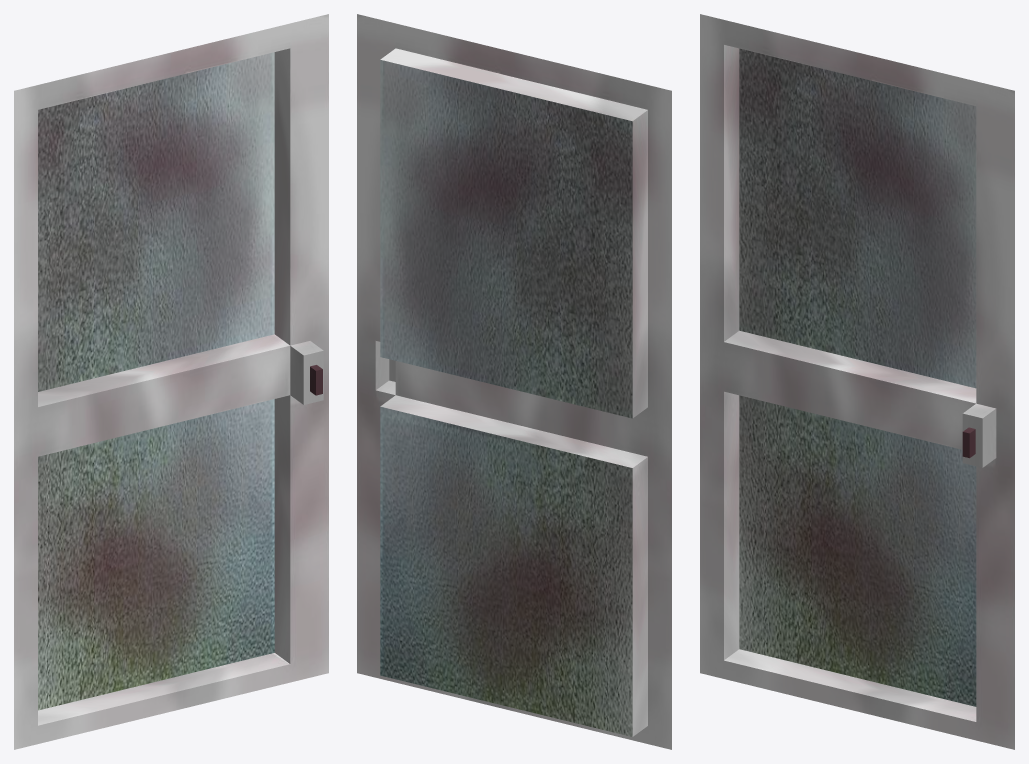
File: Puerta_03.fbx
3 renders of one model, left to right at view 1: azimuth 30°, elevation 25°; view 2: azimuth 150°, elevation 25°; view 3: azimuth 330°, elevation 25°, orthographic.
Parts seen in each view (by area): view 1: Plane; view 2: Plane; view 3: Plane.
Boxes of the visible parts, box(x1,y1,x2,y2) form: Plane: box(14, 14, 328, 749); Plane: box(357, 14, 671, 749); Plane: box(700, 14, 1014, 749).
Size of the model in its own units: 200 by 400 by 38.58.
